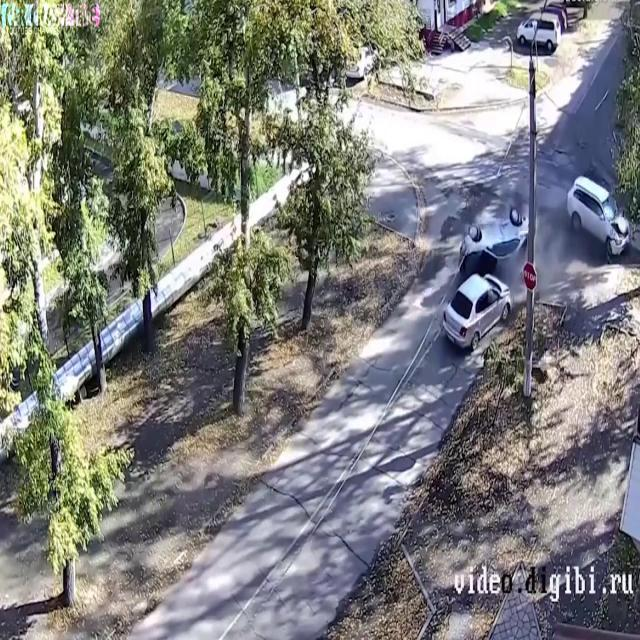accident: (434, 160, 635, 362)
